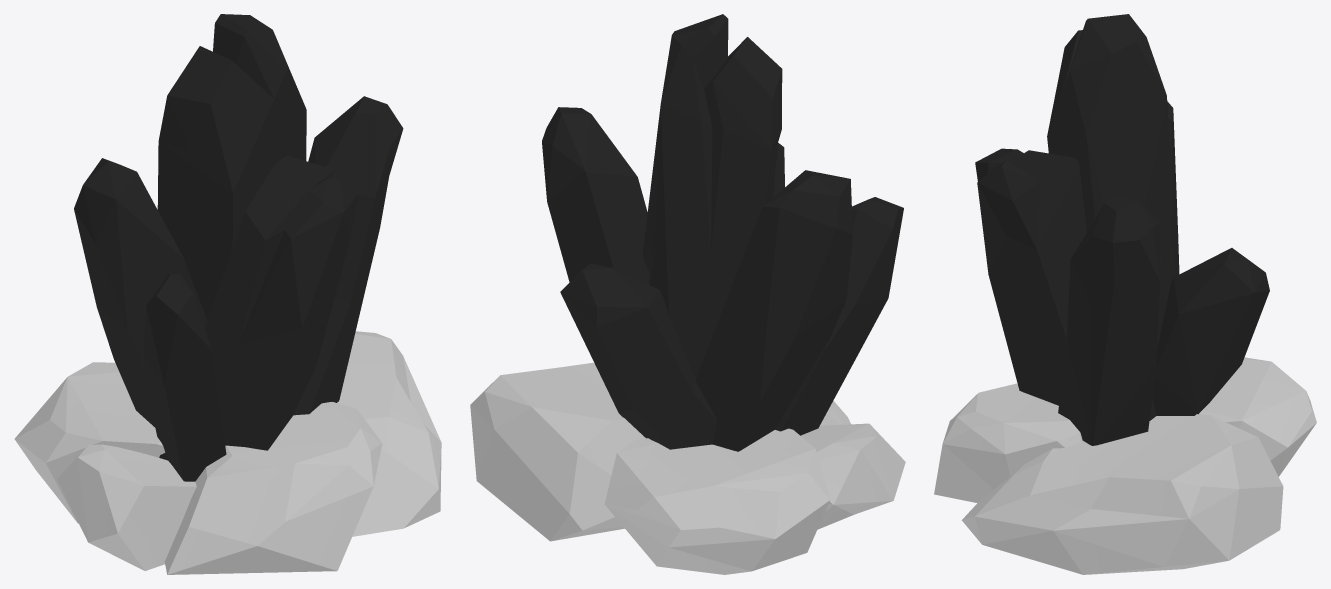
Rendered from mining_PP_Stones_Crystals_05_Iron.gltf.
The picture shows the model from 3 angles, left to right: view 1: azimuth 30°, elevation 25°; view 2: azimuth 150°, elevation 25°; view 3: azimuth 270°, elevation 25°; orthographic projection. The views are drawn at different scales.
Visible parts, largest first — view 1: PP_Stones_Crystals_05_Iron; view 2: PP_Stones_Crystals_05_Iron; view 3: PP_Stones_Crystals_05_Iron.
Boxes of the visible parts, x1=… form: PP_Stones_Crystals_05_Iron: x1=14, y1=14, x2=441, y2=574; PP_Stones_Crystals_05_Iron: x1=470, y1=14, x2=905, y2=574; PP_Stones_Crystals_05_Iron: x1=934, y1=14, x2=1316, y2=574.
Bounding box in the file's own units: 0.5602 × 0.7124 × 0.5106.
Materials: 1 (1 with a texture image).
